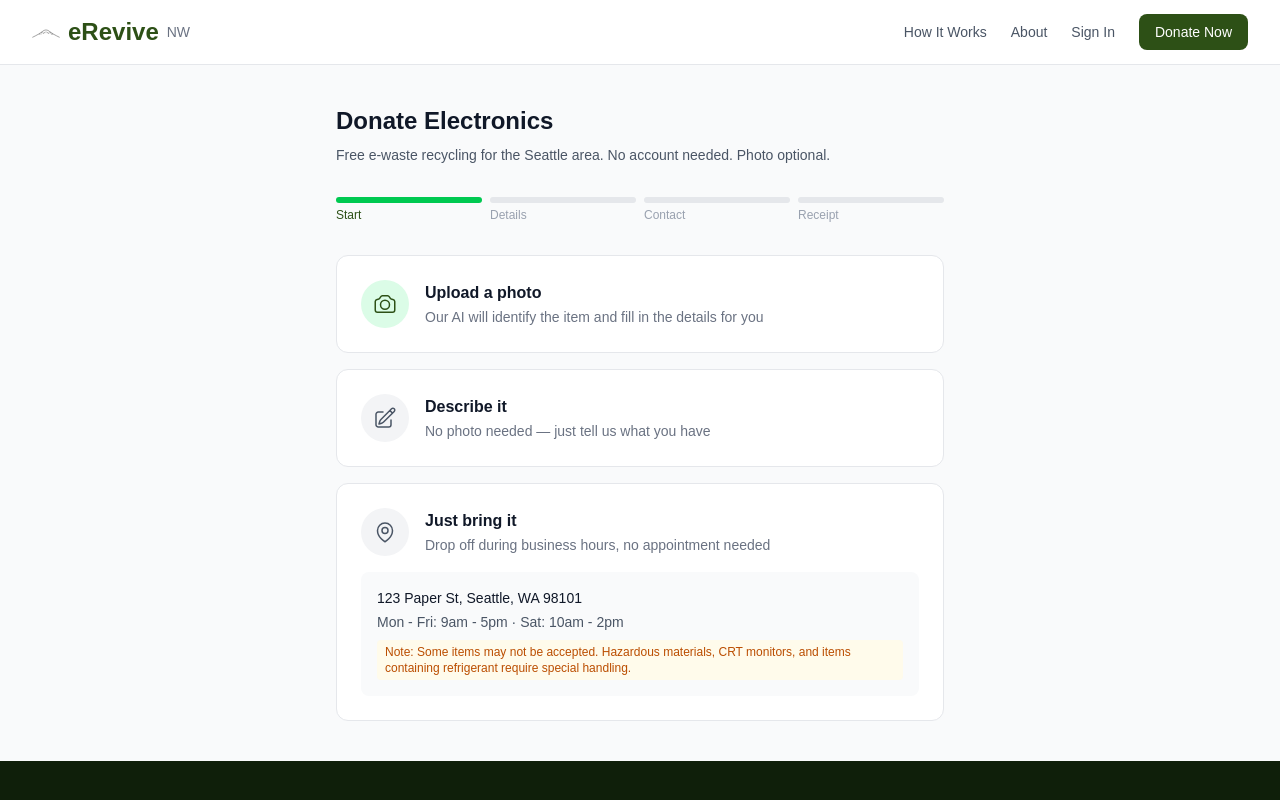
Test: Donate Page (/donate) › shows photo upload when Upload option clicked
Click the heading "Upload a photo" at (483, 292), box [425,284,541,301]
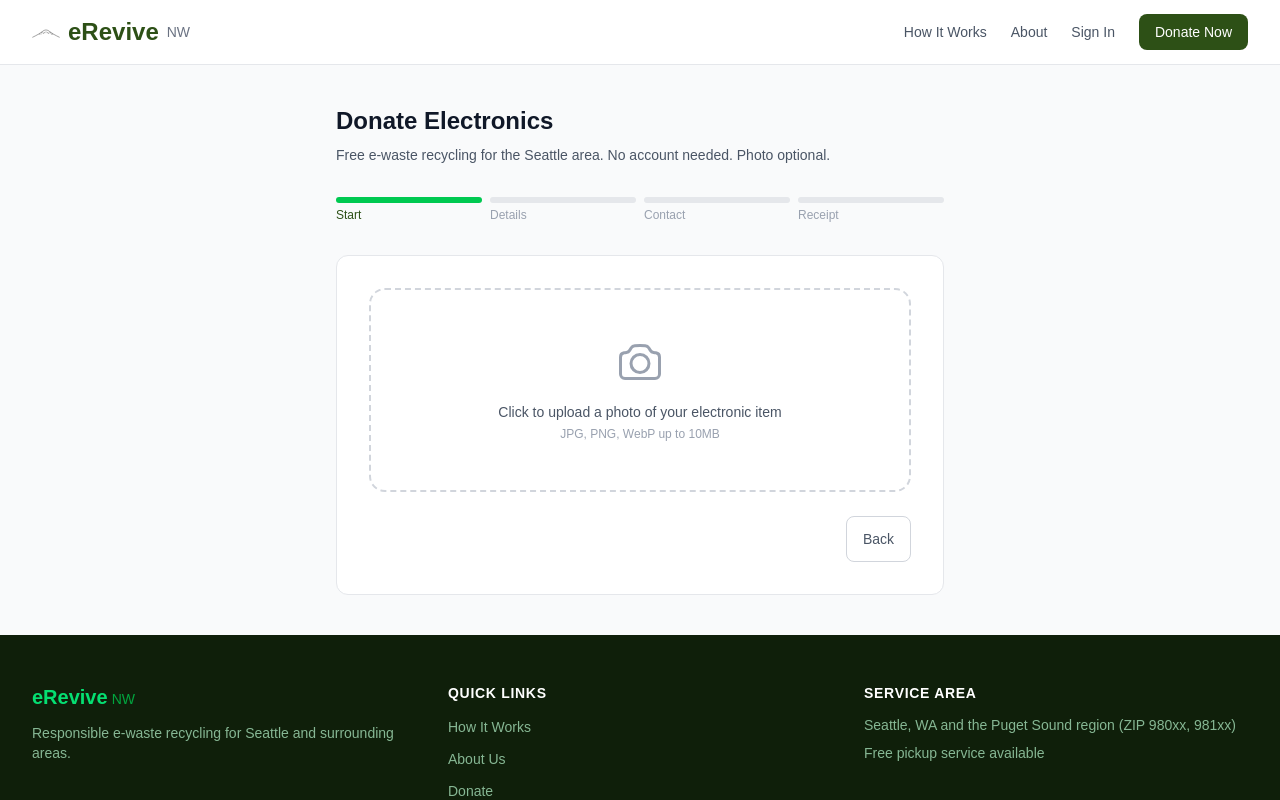
Now the text "Click to upload a photo of your electronic item" is shown, box [498,404,782,420]
